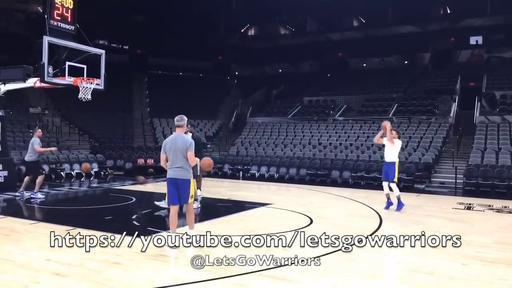ball: (200, 156, 214, 171), (136, 174, 146, 184), (82, 162, 90, 172), (382, 120, 390, 128)
human: (160, 114, 200, 234), (14, 120, 58, 200), (373, 123, 405, 212)
rim: (76, 77, 98, 100)
